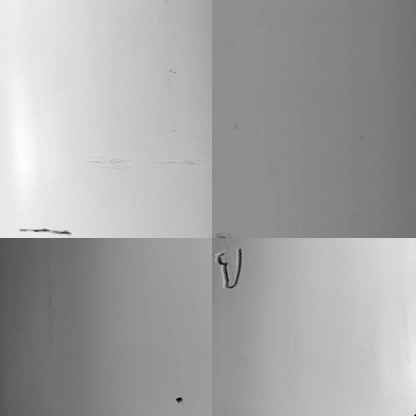fengxi: (214, 245, 247, 295), (15, 223, 78, 239)
kongdong: (174, 394, 185, 407)
